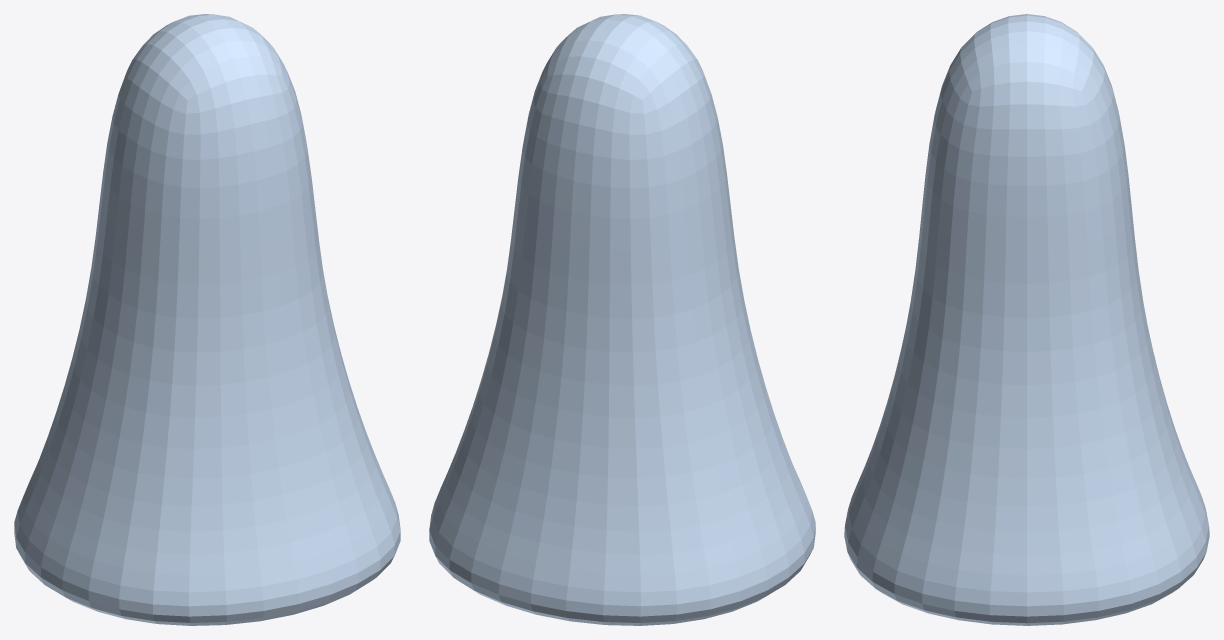
File: ghost.gltf
3 renders of one model, left to right at view 1: azimuth 30°, elevation 25°; view 2: azimuth 150°, elevation 25°; view 3: azimuth 270°, elevation 25°, orthographic.
Parts seen in each view (by area): view 1: Cube; view 2: Cube; view 3: Cube.
Boxes of the visible parts, <box> form: Cube: <box>14,14,400,625</box>; Cube: <box>429,14,815,625</box>; Cube: <box>844,14,1209,625</box>.
Size of the model in its own units: 3.5 by 5.49 by 3.33.
